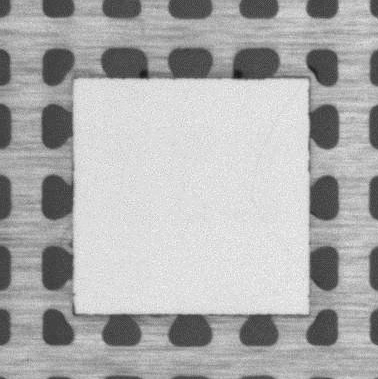DIE_CRACK: (252, 79, 303, 214)
